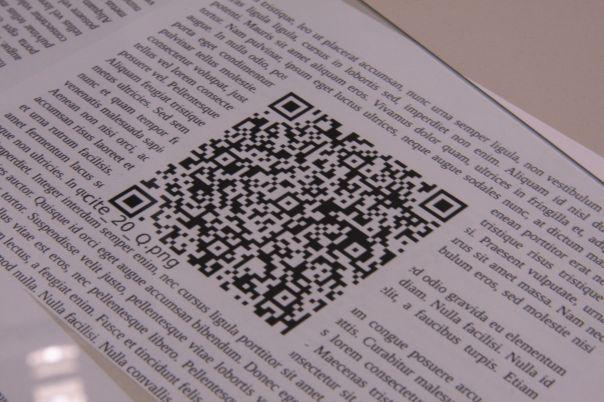Finder pattern: (417, 187, 467, 224), (265, 91, 318, 122), (107, 186, 158, 218)
